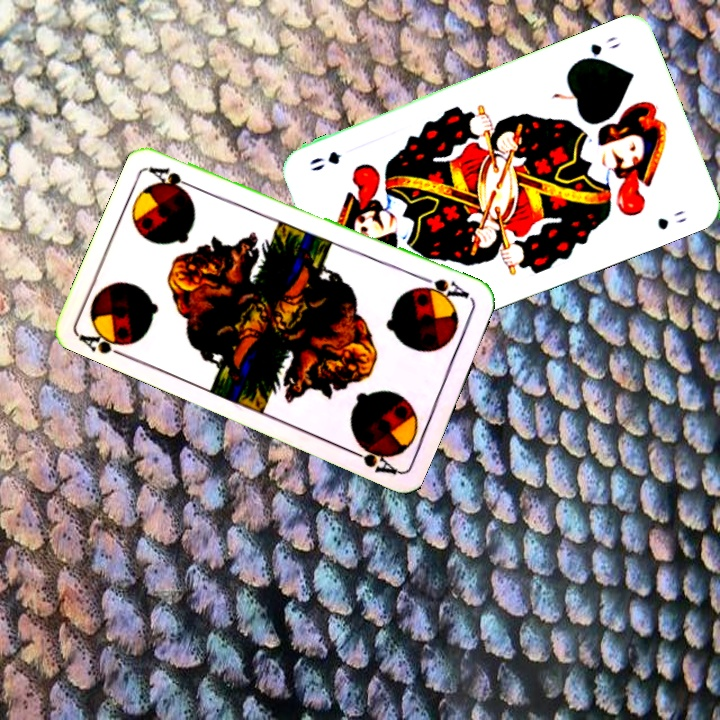GO: (573, 32, 623, 66)
SA: (75, 321, 137, 362), (415, 273, 474, 305)
